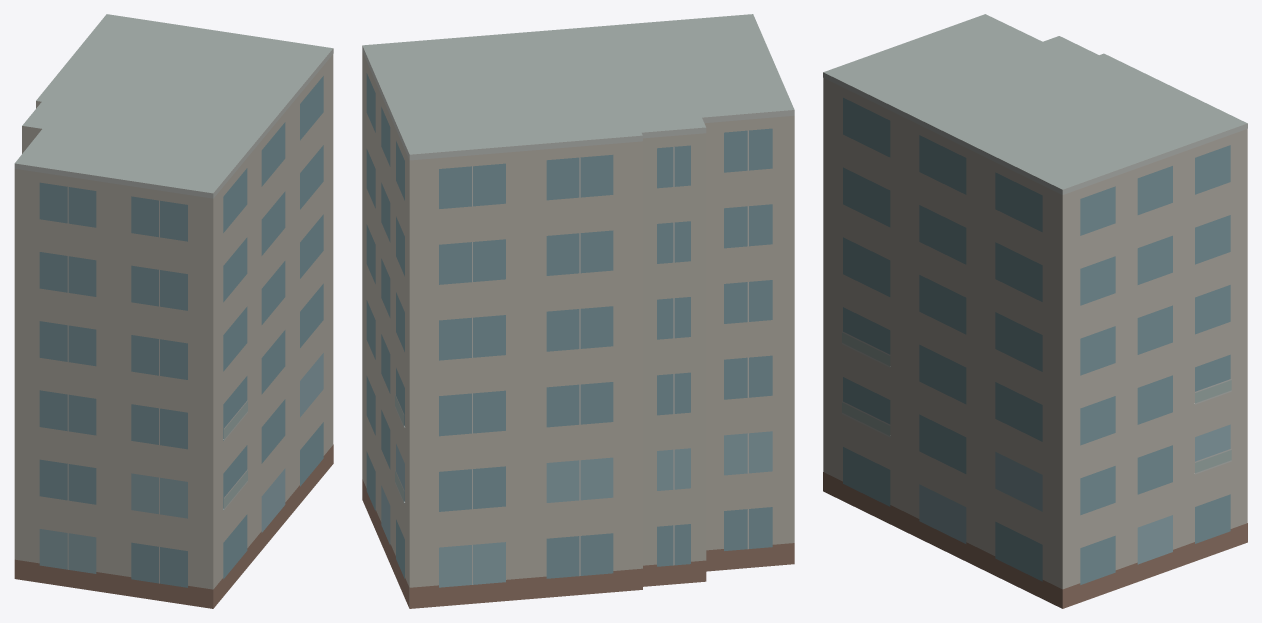
The model's file is survey-upis-32776869.glb.
The picture shows the model from 3 angles, left to right: view 1: azimuth 30°, elevation 25°; view 2: azimuth 150°, elevation 25°; view 3: azimuth 270°, elevation 25°; orthographic projection. The views are drawn at different scales.
Parts seen in each view (by area): view 1: survey-upis-32776869.tmp; view 2: survey-upis-32776869.tmp; view 3: survey-upis-32776869.tmp.
Boxes of the visible parts, x1,y1,x2,y2 form: survey-upis-32776869.tmp: [14, 14, 333, 608]; survey-upis-32776869.tmp: [362, 14, 794, 608]; survey-upis-32776869.tmp: [823, 14, 1247, 608].
Size of the model in its own units: 17.19 by 19.1 by 17.54.
